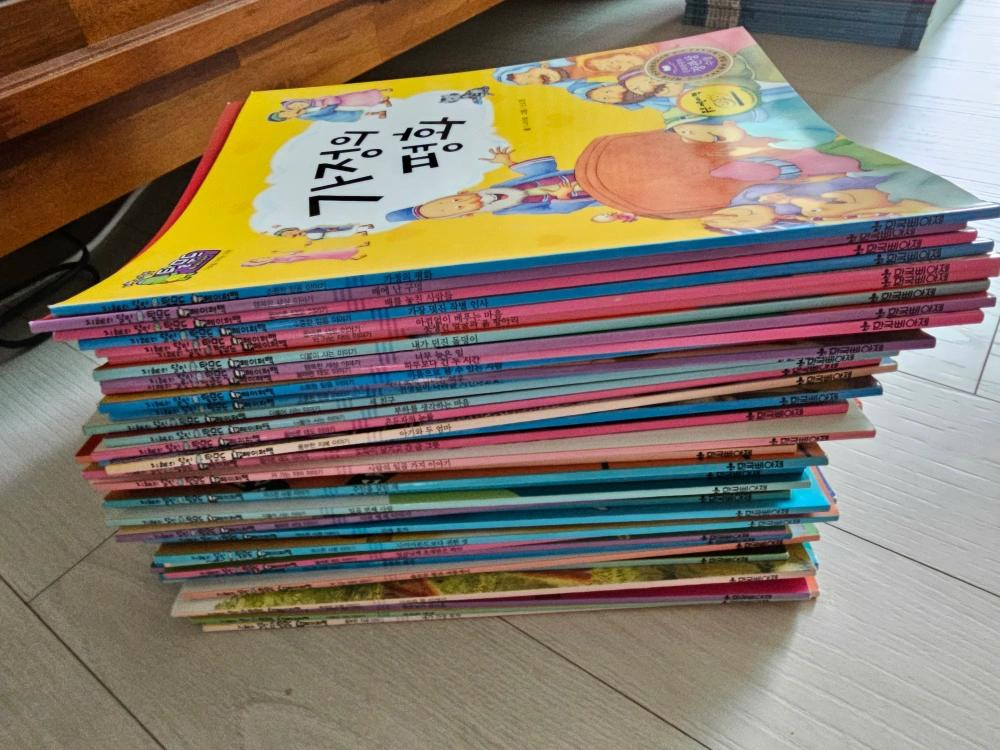book: (39, 87, 997, 611)
